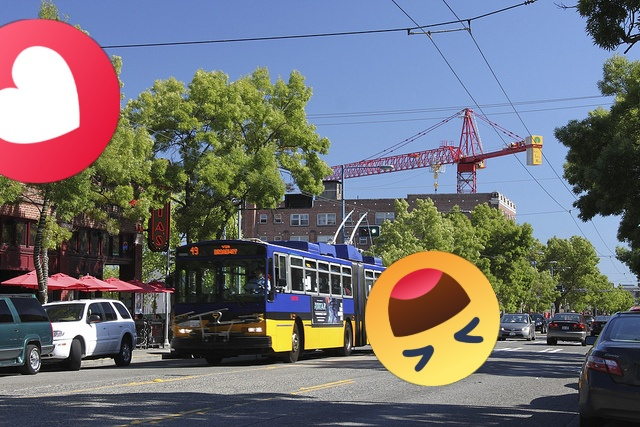haha: (365, 251, 500, 386)
love: (0, 19, 120, 183)
